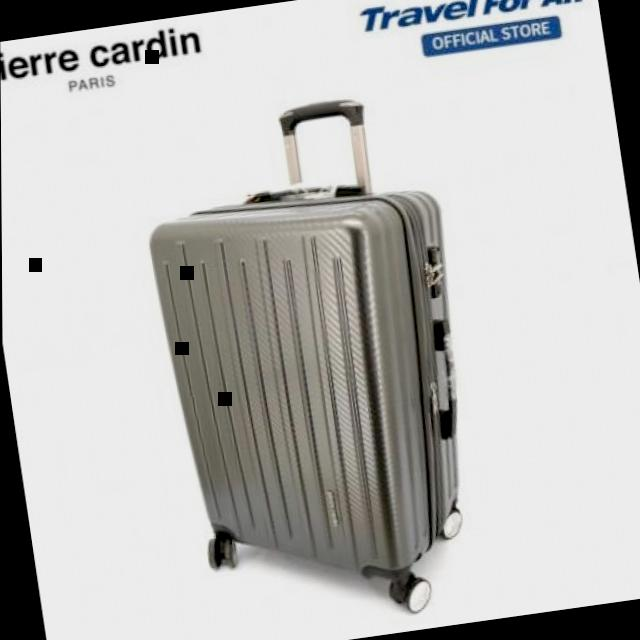luggage: (136, 159, 496, 606)
